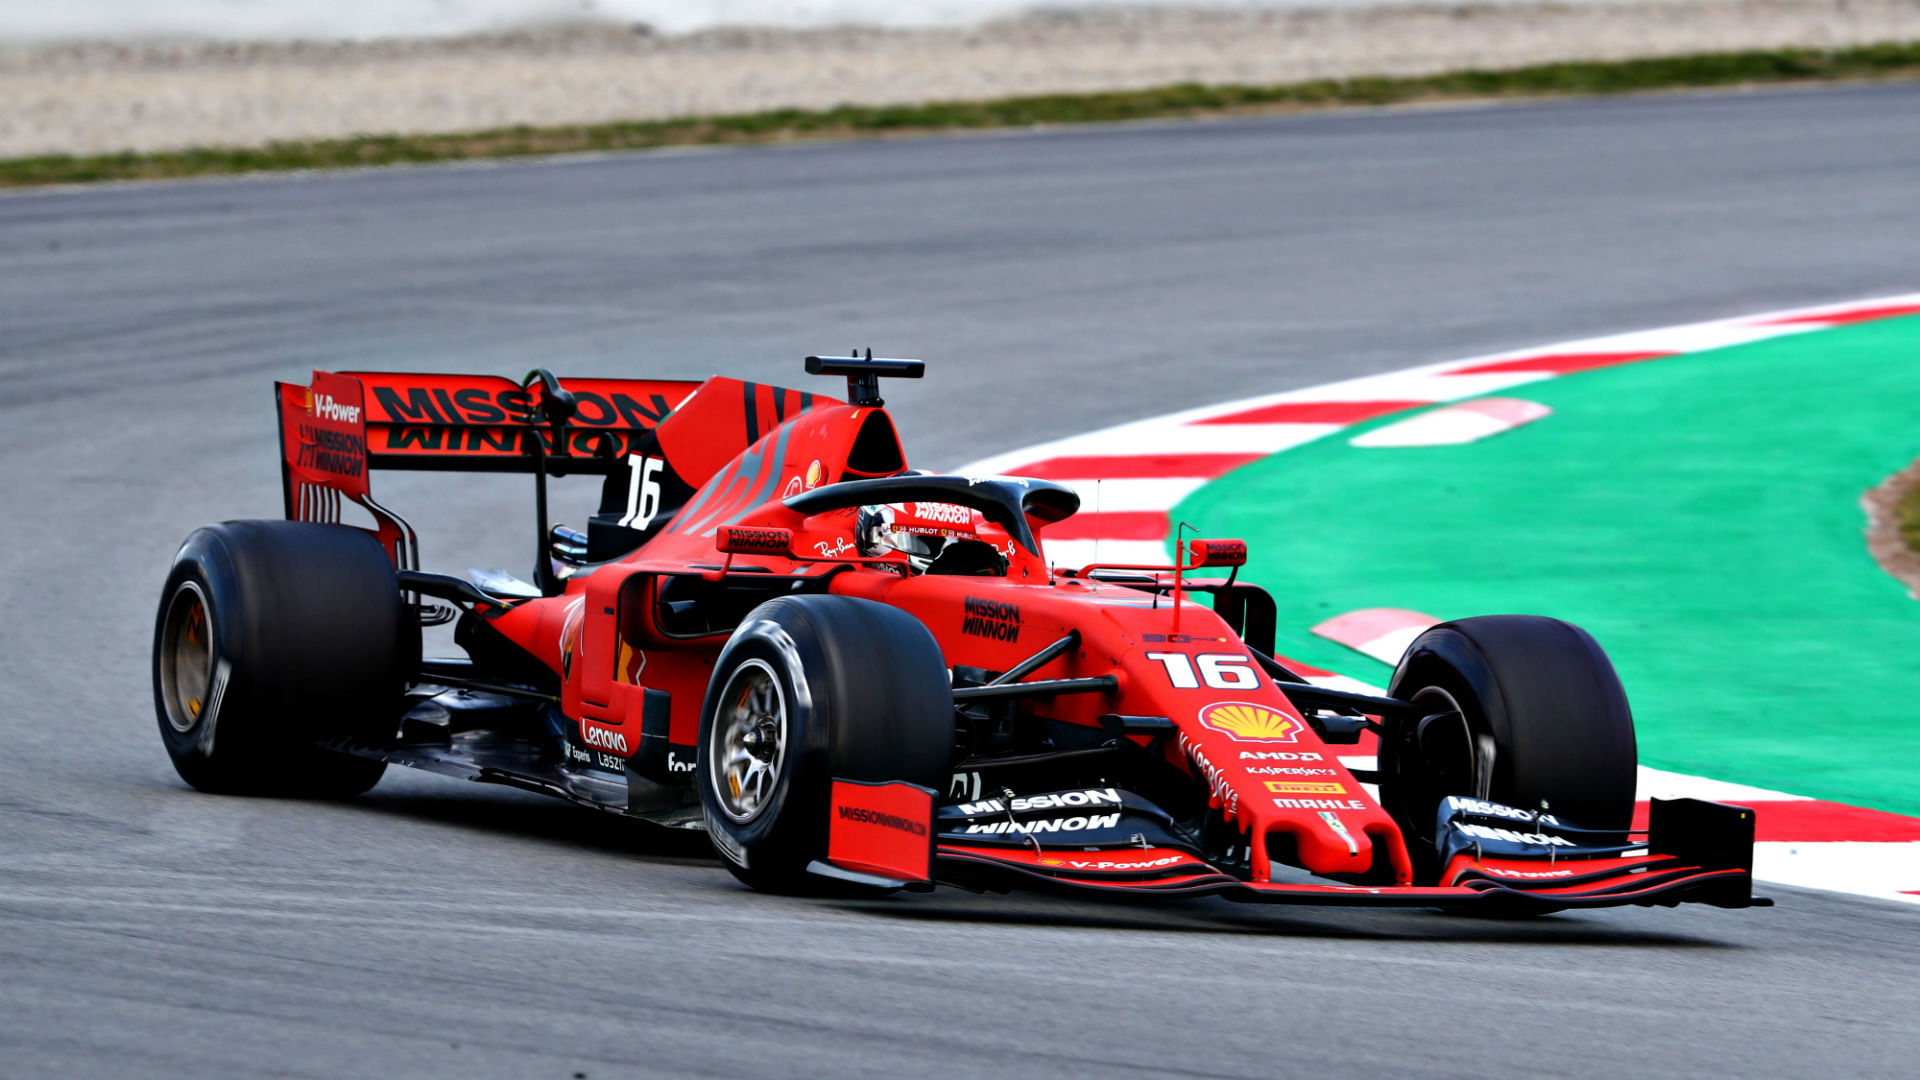F1 Car: (137, 342, 1774, 949)
